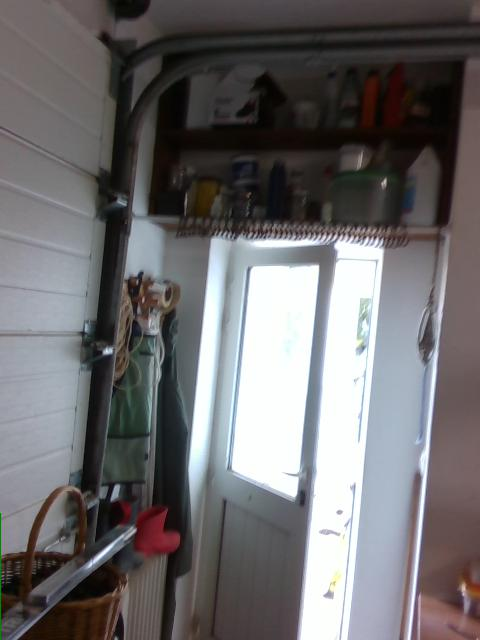semi_door: (184, 223, 385, 639)
